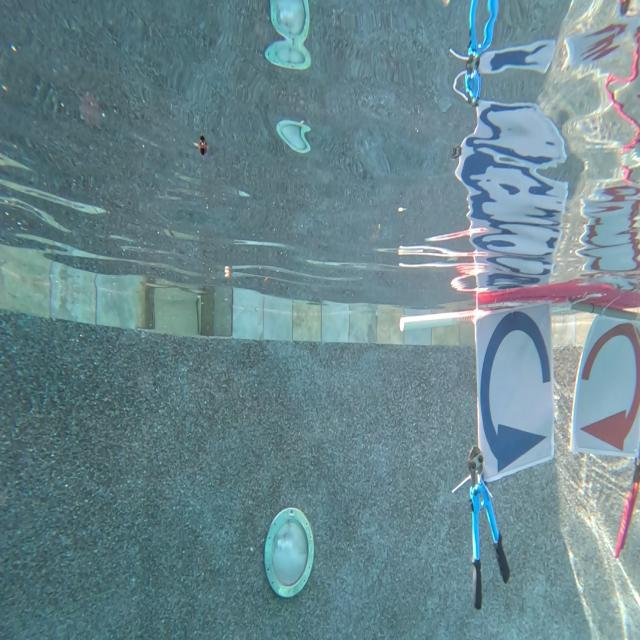blue_side: (471, 311, 554, 479)
red_side: (572, 312, 640, 464)
